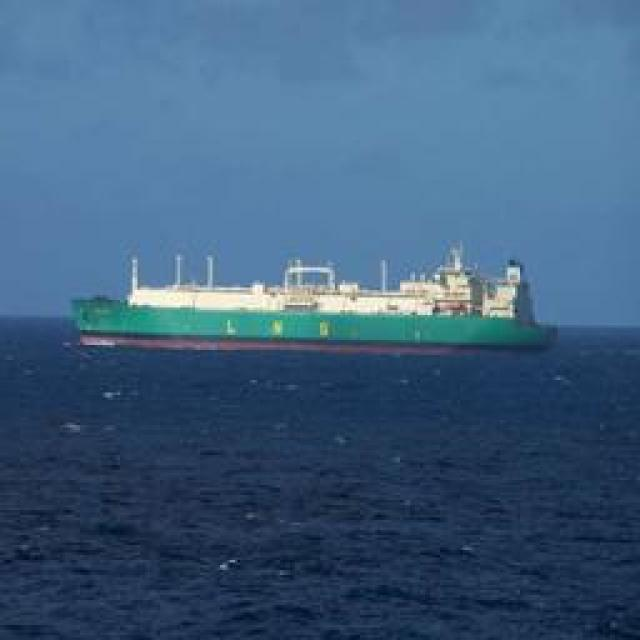CIV_Ship: (69, 244, 552, 348)
